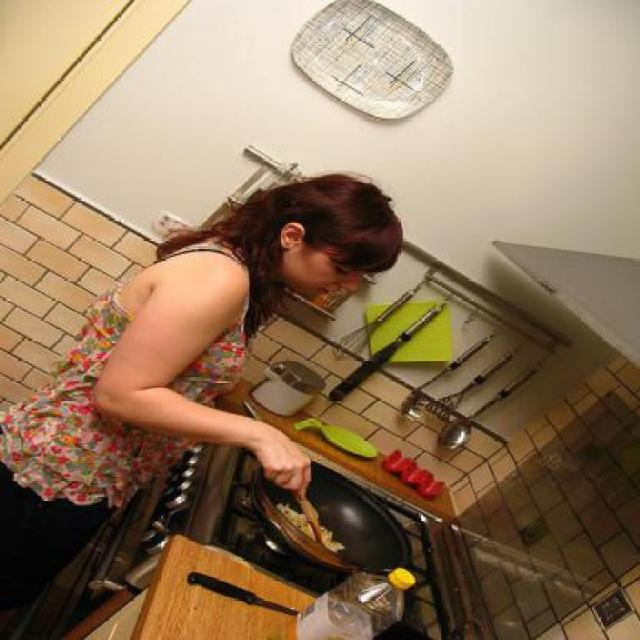Person: (0, 164, 408, 630)
